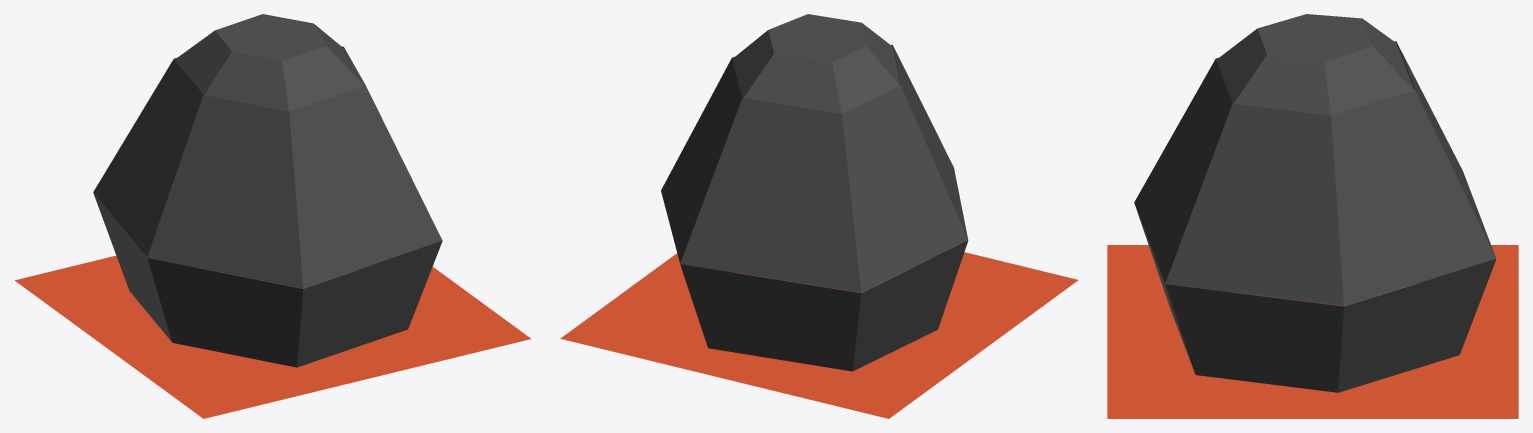
File: akadaly2.glb
3 views of the same model, side by side, from view 1: azimuth 30°, elevation 25°; view 2: azimuth 150°, elevation 25°; view 3: azimuth 270°, elevation 25° (orthographic). The views are drawn at different scales.
Visible parts, largest first — view 1: Plane, Plane.001; view 2: Plane, Plane.001; view 3: Plane, Plane.001.
Boxes of the visible parts, left/top/right/bottom form: Plane: left=93, top=14, right=442, bottom=367; Plane.001: left=14, top=255, right=530, bottom=418; Plane: left=661, top=14, right=968, bottom=371; Plane.001: left=560, top=252, right=1078, bottom=418; Plane: left=1134, top=14, right=1496, bottom=392; Plane.001: left=1107, top=245, right=1518, bottom=418.
Bounding box in the file's own units: 2 × 1.58 × 2.
